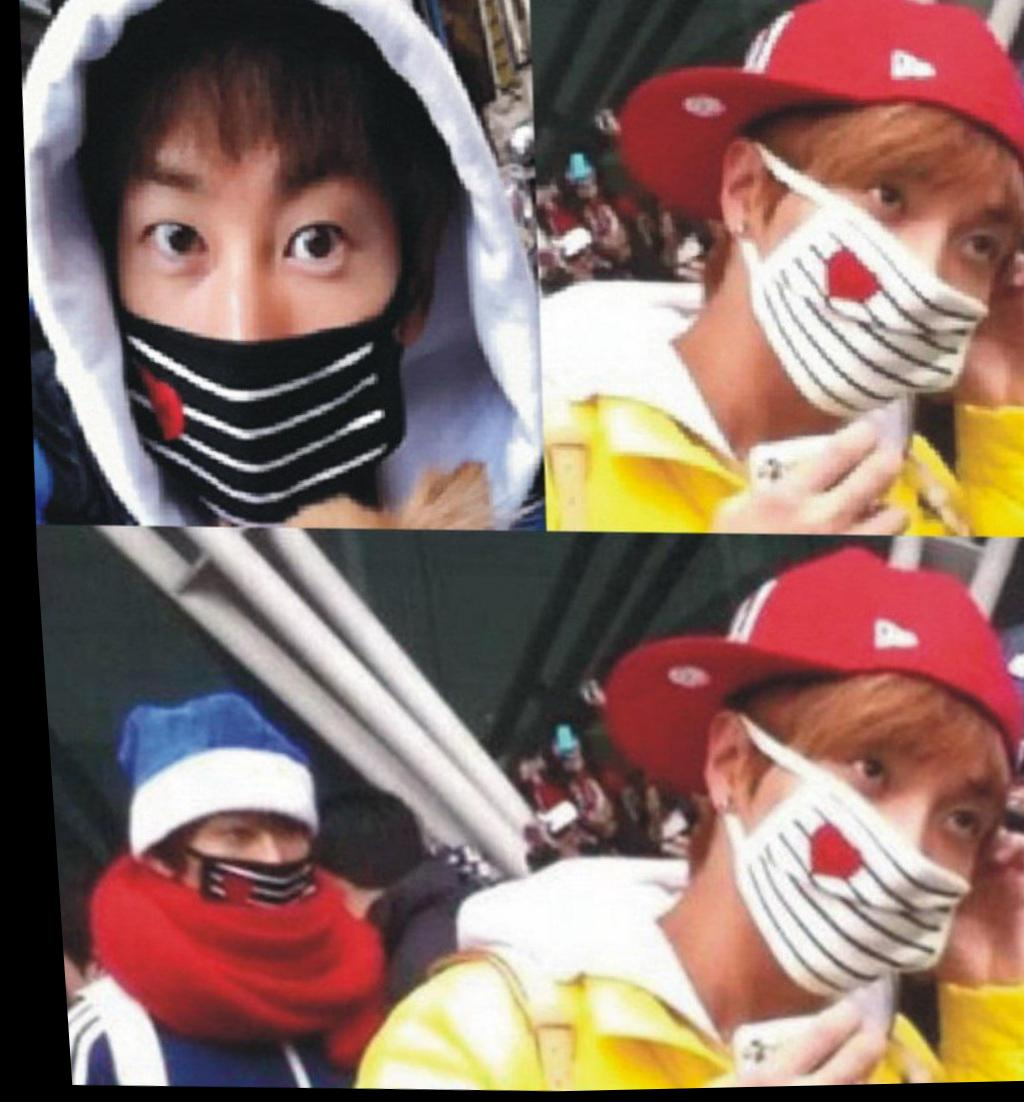WRONG: (116, 147, 423, 485), (737, 127, 1024, 424), (732, 736, 1008, 997), (155, 795, 320, 955)
